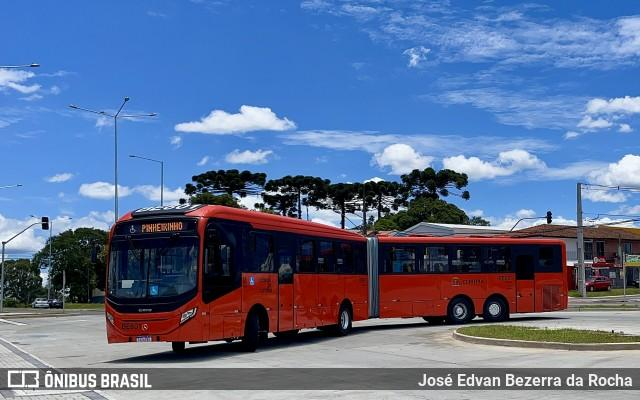PINHEIRINHO: (138, 219, 187, 236)
